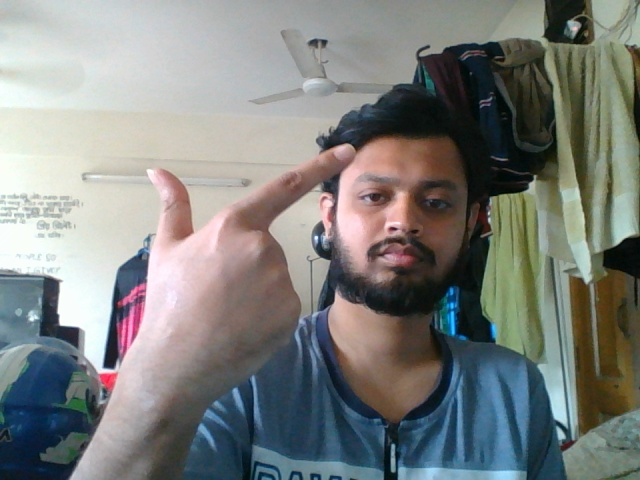tho: (122, 139, 358, 430)
